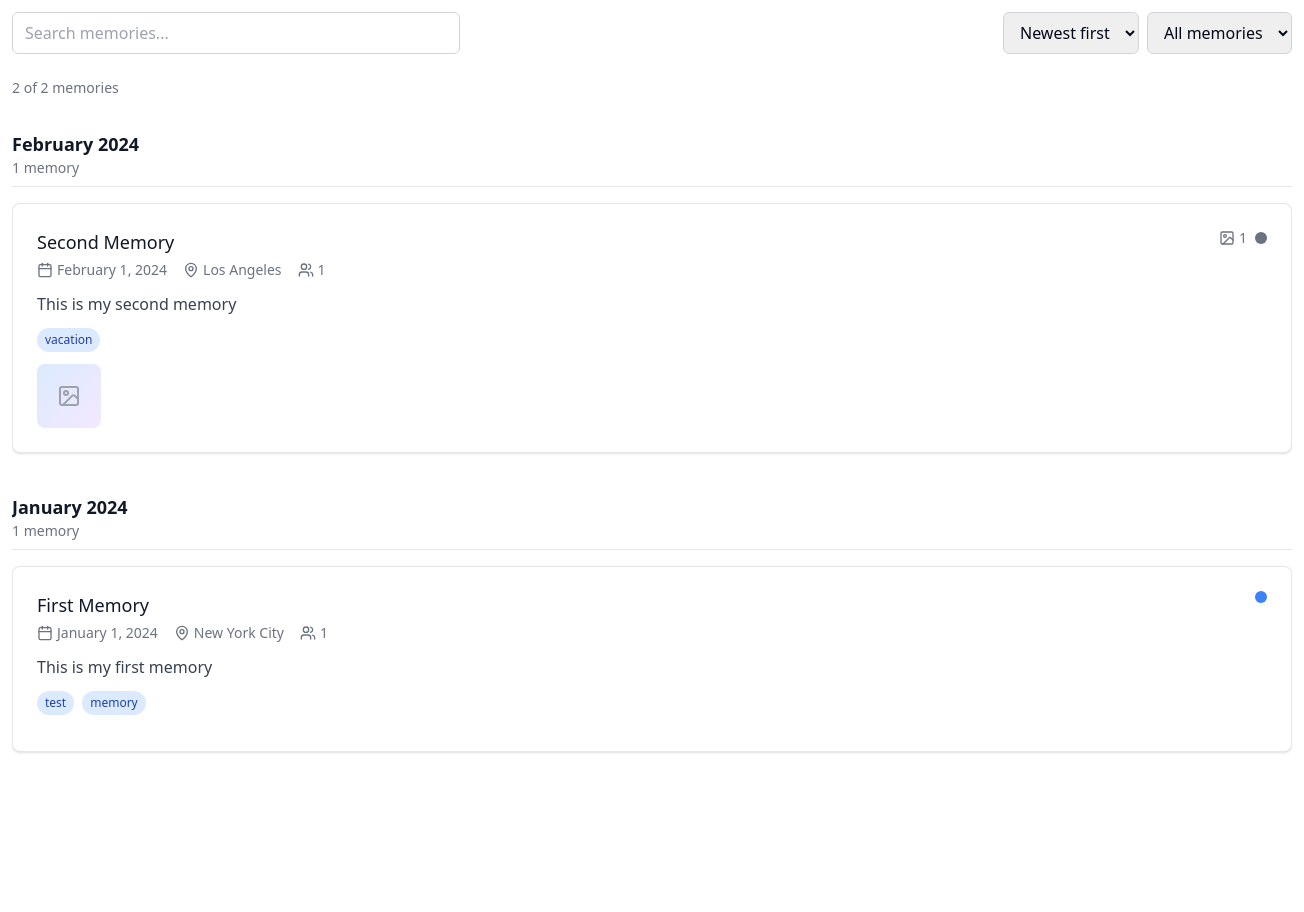
Test: Timeline Component › shows no results message when search yields no results
Type "nonexistent" into the field with placeholder "Search memories...". click: (236, 33)
box: [12,12,460,54]
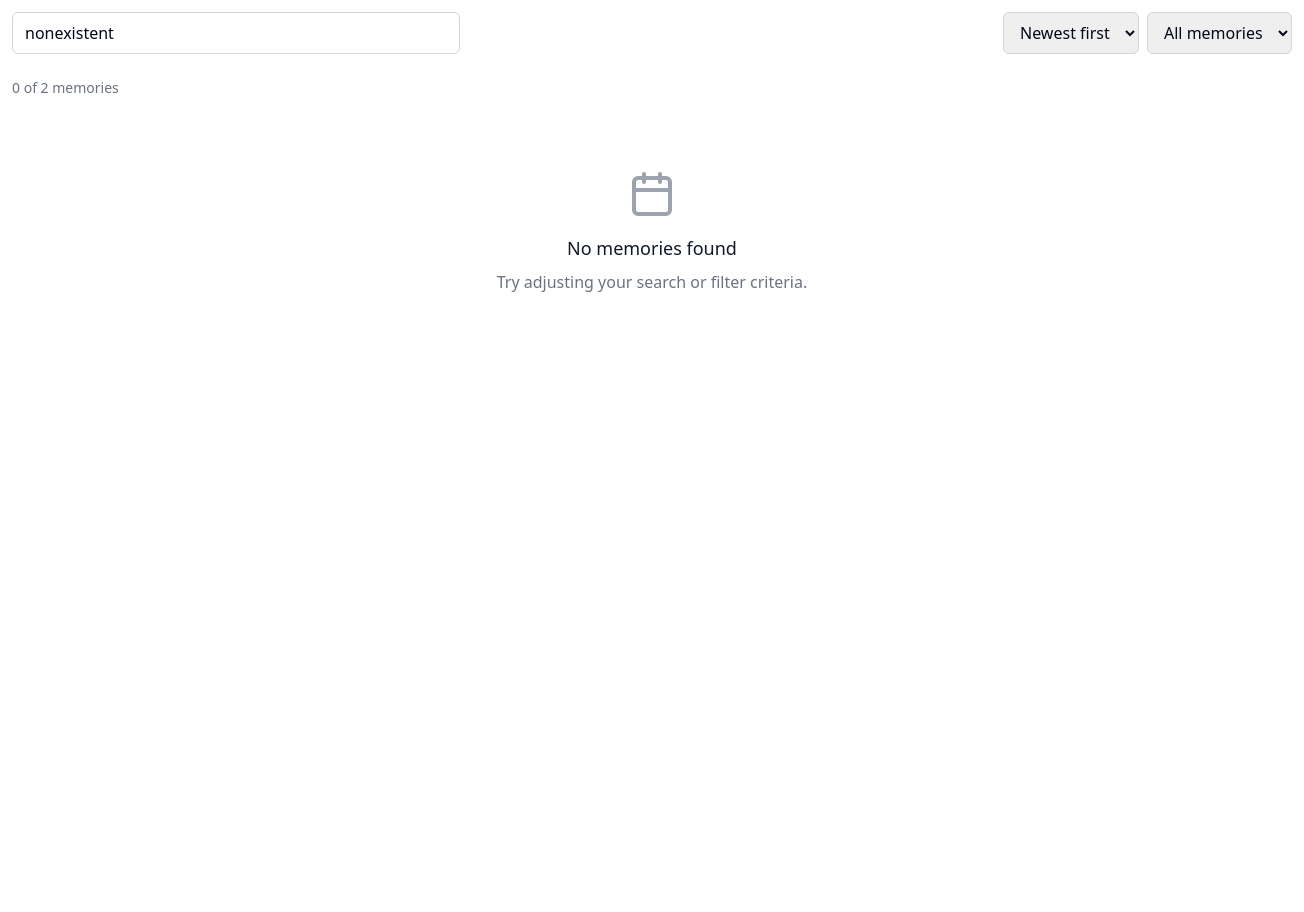
Expected: the heading "No memories found" is shown, [567,236,737,260]
Expected: the text "Try adjusting your search or filter criteria." is shown, [497,271,807,293]
